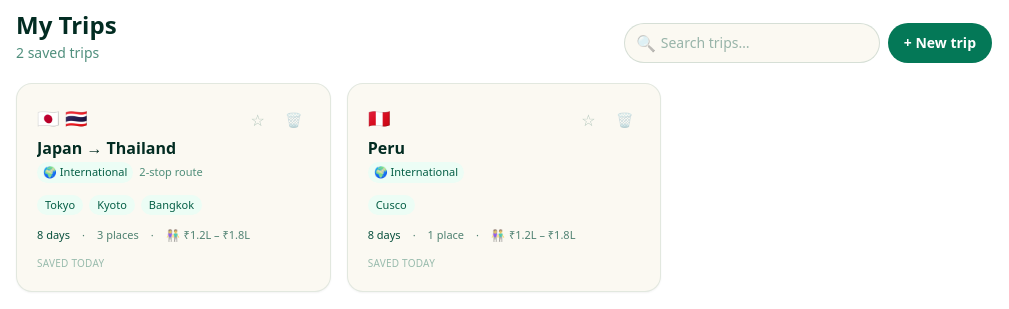
Scenario: MyTripsView › filters trips by the search box (name, country, or city)
In the search field named "search saved trips": coordinates (752, 43) [624, 23, 880, 63], type "cusco"
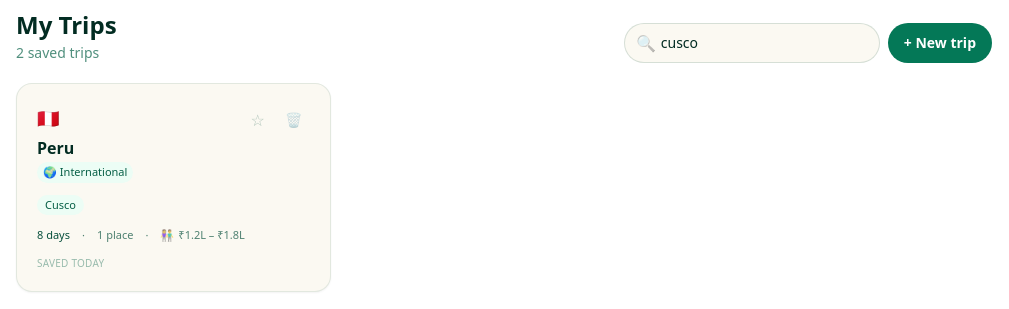
Check: the heading "Peru" is shown, box [37, 137, 74, 159]
Check: the heading "Japan → Thailand" is gone
Replace the text in the search field named "search saved trips" with "japan": coordinates (752, 43) [624, 23, 880, 63]
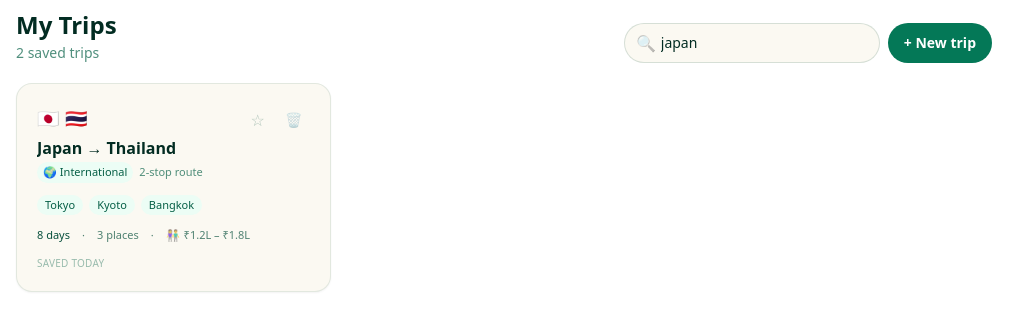
Check: the heading "Japan → Thailand" is shown, box [37, 137, 176, 159]
Check: the heading "Peru" is gone
